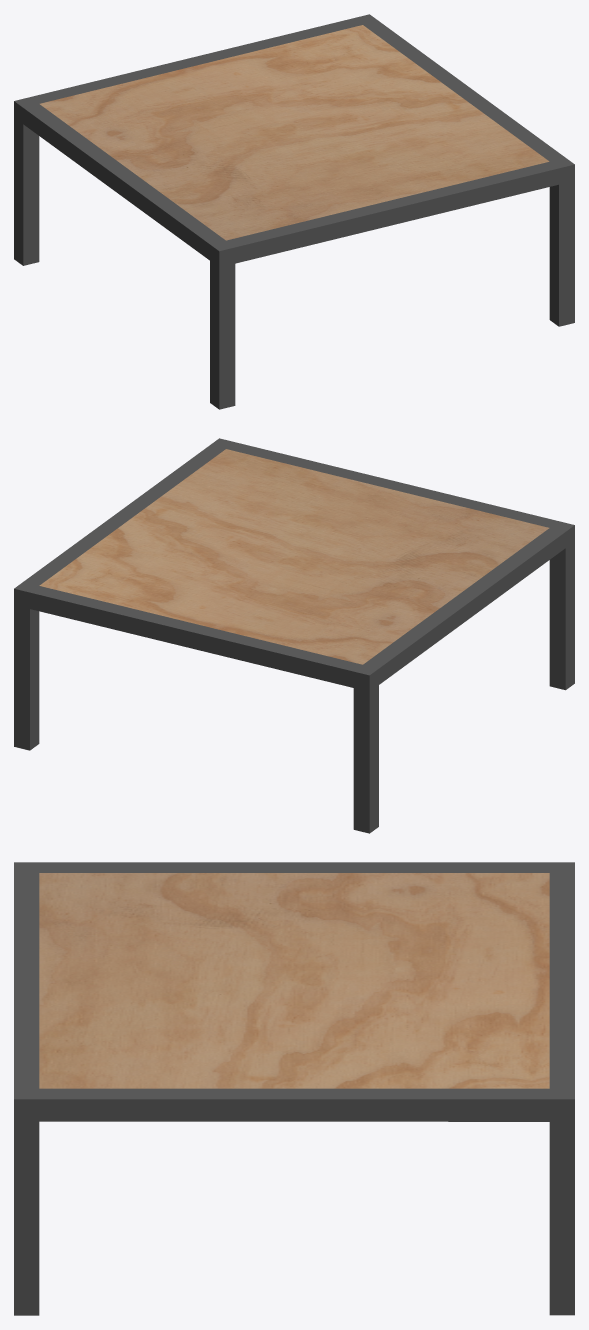
File: Wooden_Table.fbx
3 views of the same model, one above another, from view 1: azimuth 30°, elevation 25°; view 2: azimuth 150°, elevation 25°; view 3: azimuth 270°, elevation 25° (orthographic). The views are drawn at different scales.
Parts seen in each view (by area): view 1: Atrium_Table; view 2: Atrium_Table; view 3: Atrium_Table.
Part boxes in pixels (x1,y1,x2,y2): Atrium_Table: [14, 14, 574, 409]; Atrium_Table: [14, 438, 574, 833]; Atrium_Table: [14, 862, 574, 1315].
Size of the model in its own units: 524 by 223 by 524.
2 materials, 1 textured.
